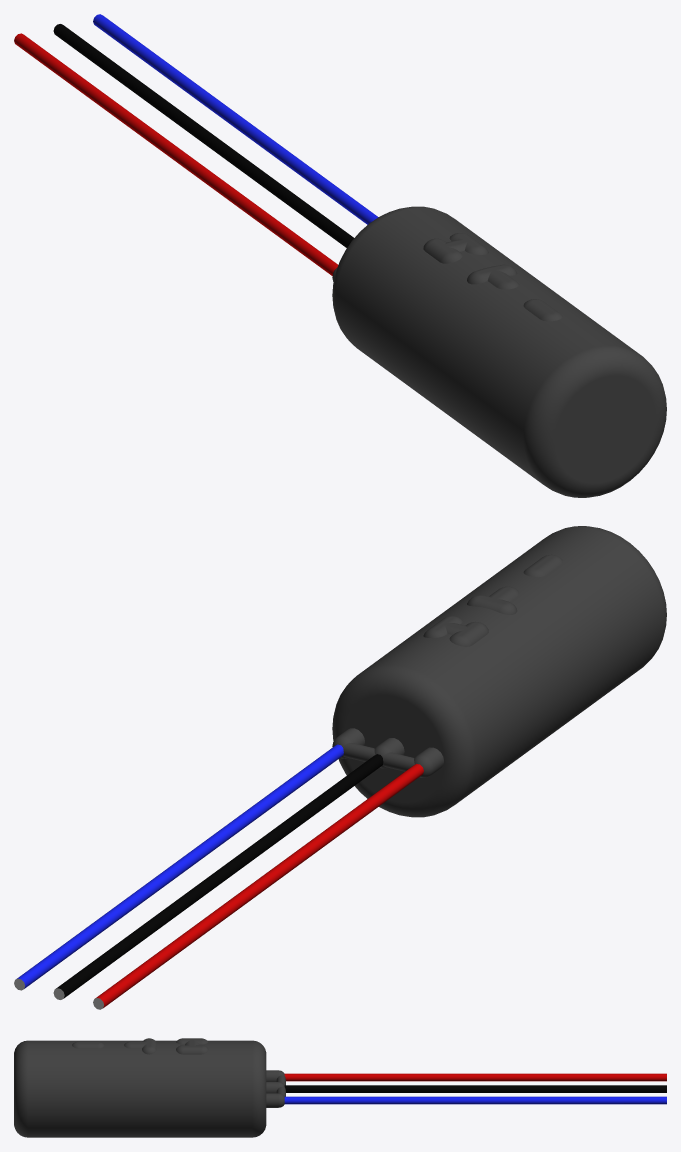
The picture shows the model from 3 angles, top to bottom: view 1: azimuth 30°, elevation 25°; view 2: azimuth 150°, elevation 25°; view 3: azimuth 270°, elevation 25°; orthographic projection. The views are drawn at different scales.
Visible parts, largest first — view 1: Solid1 (×4); view 2: Solid1 (×4); view 3: Solid1 (×4).
Boxes of the visible parts, <box> form: Solid1 (×4): <box>14,14,666,497</box>; Solid1 (×4): <box>14,526,666,1009</box>; Solid1 (×4): <box>14,1038,666,1137</box>.
Bounding box in the file's own units: 0.0159 × 0.0163 × 0.1068.
